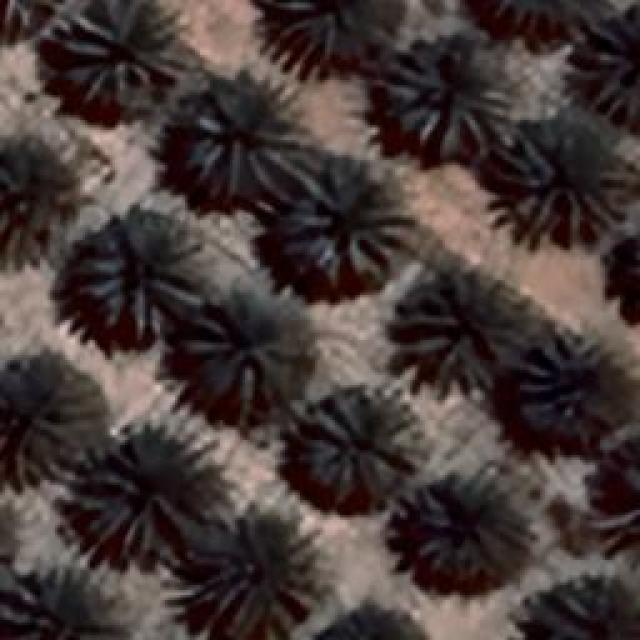PalmTree: (32, 15, 614, 482), (75, 205, 210, 338), (380, 27, 515, 155), (180, 524, 330, 638), (284, 152, 418, 278), (500, 120, 635, 245), (390, 267, 520, 395), (187, 78, 315, 200), (300, 385, 425, 500), (60, 0, 185, 110), (70, 438, 182, 552), (412, 470, 530, 578), (185, 294, 293, 404), (520, 322, 620, 428), (0, 560, 125, 638), (6, 352, 84, 476), (265, 0, 390, 70), (0, 125, 62, 260), (512, 577, 639, 640), (570, 12, 638, 128), (472, 0, 589, 31), (314, 609, 428, 640), (0, 480, 16, 610), (624, 210, 640, 324), (630, 212, 640, 324)
